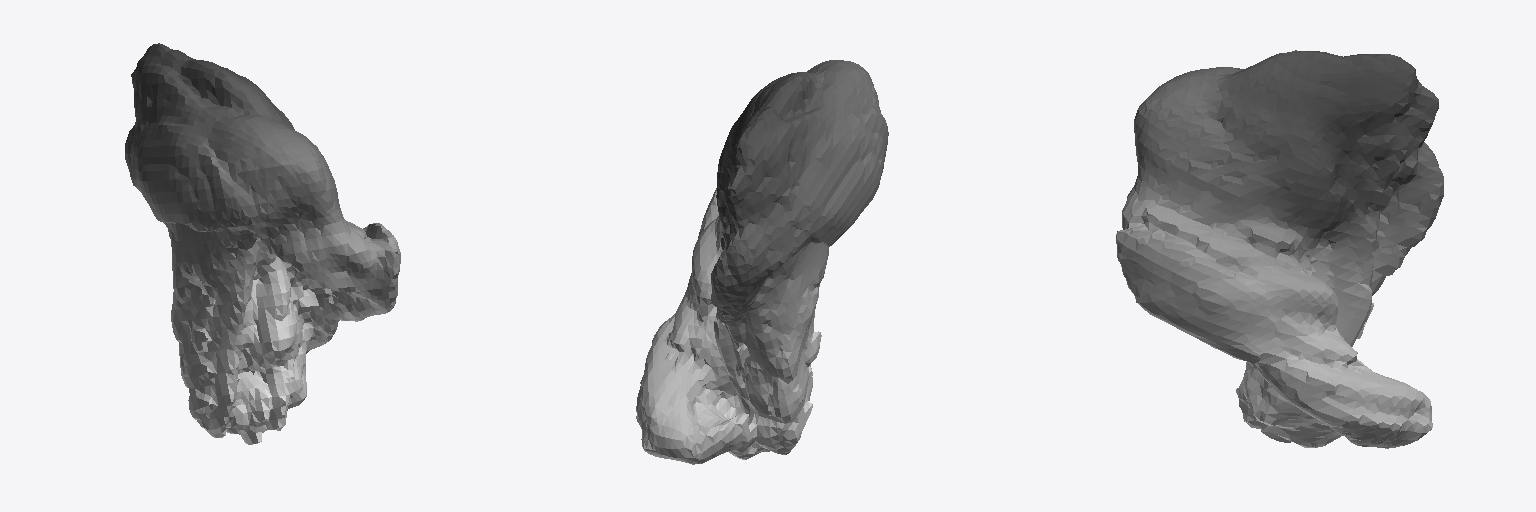
The picture shows the model from 3 angles: view 1: azimuth 30°, elevation 25°; view 2: azimuth 150°, elevation 25°; view 3: azimuth 270°, elevation 25°; orthographic projection.
Visible parts, largest first — view 1: humo:Meshgroup7; view 2: humo:Meshgroup7; view 3: humo:Meshgroup7.
Part boxes in pixels (x1,y1,x2,y2): humo:Meshgroup7: (125,43,400,444); humo:Meshgroup7: (636,60,888,464); humo:Meshgroup7: (1116,50,1443,448).
Bounding box in the file's own units: 1.06 × 2.11 × 1.65.
1 materials, 1 textured.